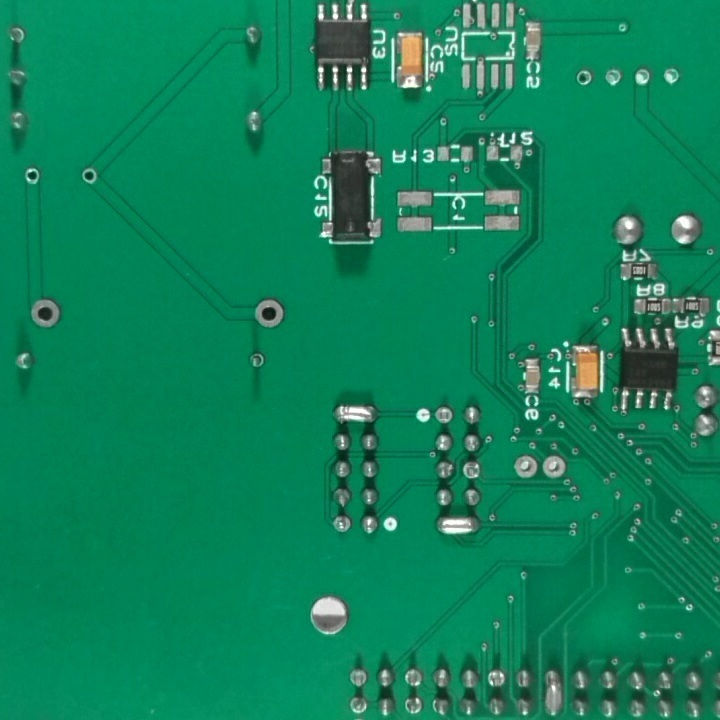F: (249, 297, 290, 331), (26, 295, 62, 332), (539, 449, 567, 489), (510, 450, 541, 486), (1, 24, 30, 49), (328, 512, 355, 538), (483, 663, 506, 693), (345, 691, 369, 718), (630, 66, 654, 91), (402, 691, 424, 717), (461, 459, 484, 483), (661, 66, 686, 88), (573, 66, 596, 89), (433, 404, 457, 426), (246, 348, 266, 373), (21, 166, 42, 187), (604, 69, 624, 91), (81, 168, 98, 187)
P: (434, 509, 481, 541), (542, 662, 566, 720), (328, 400, 379, 427)
